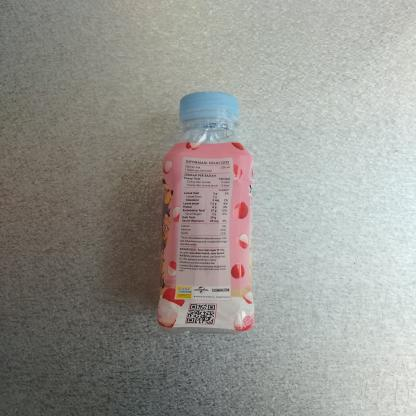plastic: (152, 86, 265, 337)
